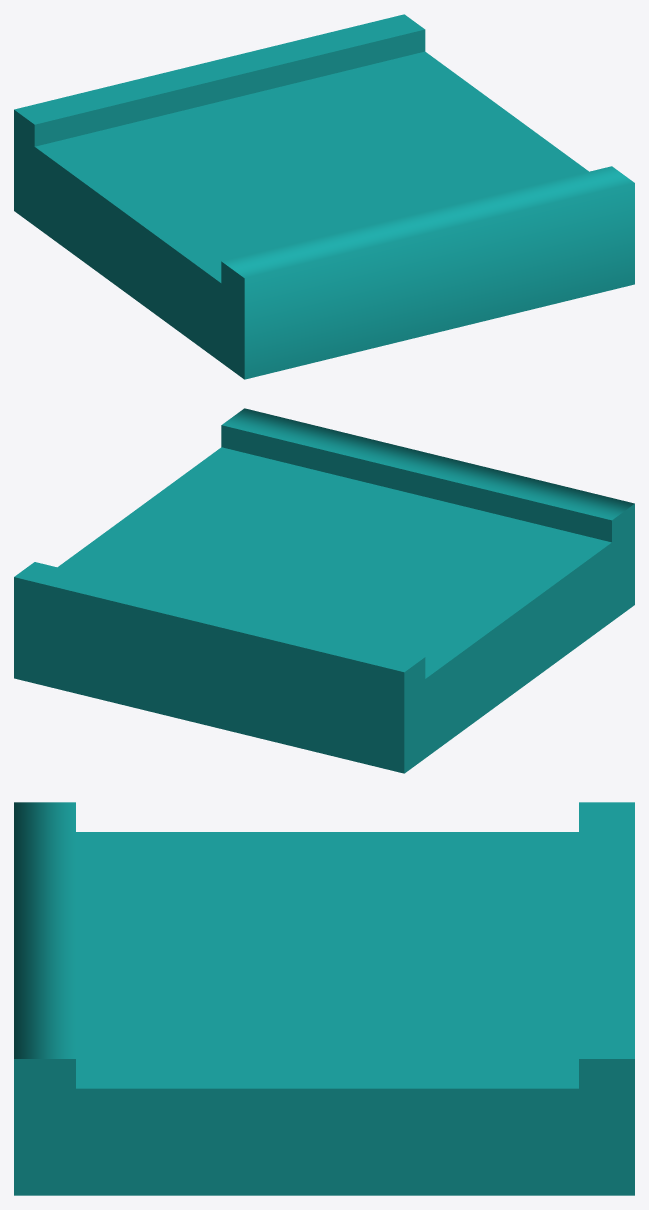
Rendered from Stop.fbx.
3 views of the same model, one above another, from view 1: azimuth 30°, elevation 25°; view 2: azimuth 150°, elevation 25°; view 3: azimuth 270°, elevation 25° (orthographic). The views are drawn at different scales.
Parts seen in each view (by area): view 1: Stop; view 2: Stop; view 3: Stop.
Boxes of the visible parts, x1,y1,x2,y2 form: Stop: (14,14,634,379); Stop: (14,408,634,773); Stop: (14,802,634,1195).
Size of the model in its own units: 6.17 by 1.53 by 6.31.
